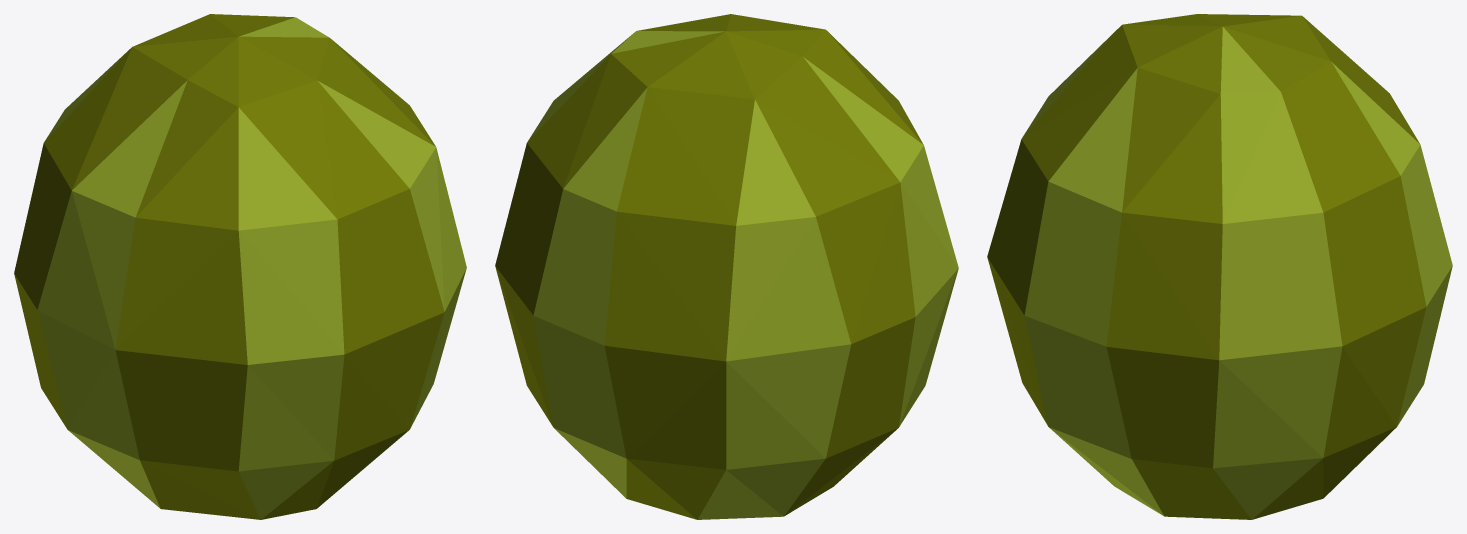
Rendered from Watermelon.glb.
3 renders of one model, left to right at view 1: azimuth 30°, elevation 25°; view 2: azimuth 150°, elevation 25°; view 3: azimuth 270°, elevation 25°, orthographic.
Visible parts, largest first — view 1: Watermelon; view 2: Watermelon; view 3: Watermelon.
Part boxes in pixels (left/top/right/bottom): Watermelon: left=14, top=14, right=466, bottom=519; Watermelon: left=495, top=14, right=958, bottom=519; Watermelon: left=987, top=14, right=1452, bottom=519.
Size of the model in its own units: 0.154 by 0.1729 by 0.1552.
